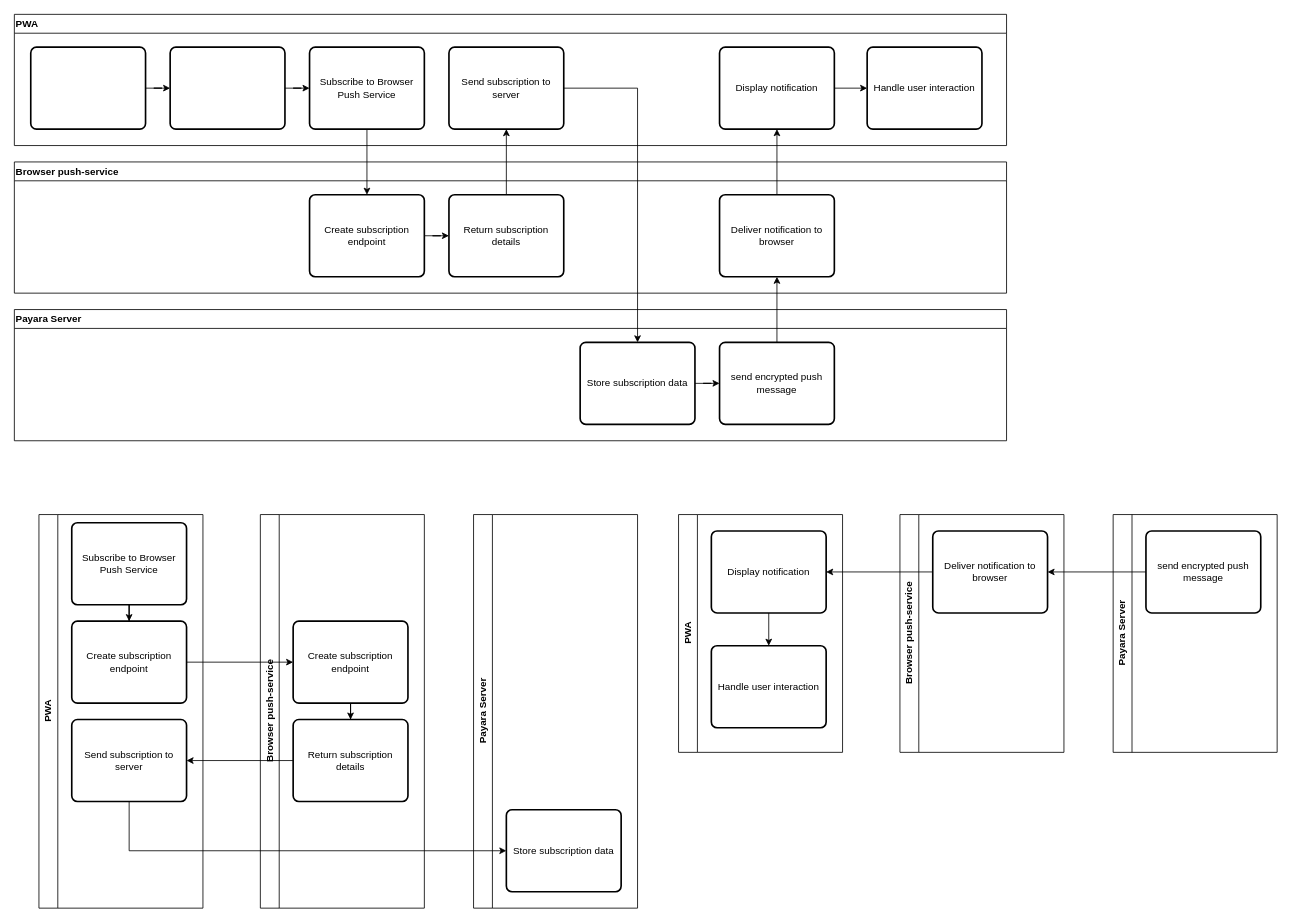
This 1292x923 diagram has some shape labels left out. Here are the shapes that lost their labels. From the top down, the centre of each, then its label:
point (88, 88): User grants notification permission
point (227, 88): Register Service Worker
